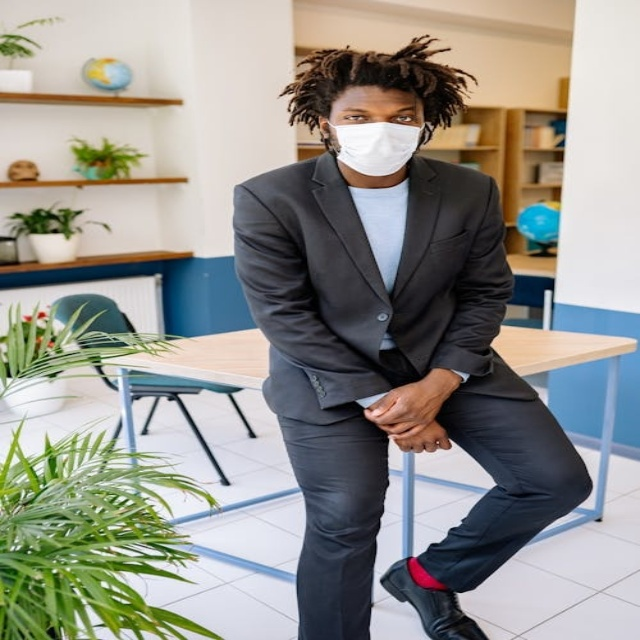Mascara: (327, 120, 426, 175)
Sin_gafas: (334, 105, 421, 123)
Sin_guantes: (352, 367, 468, 431), (384, 416, 460, 457)
